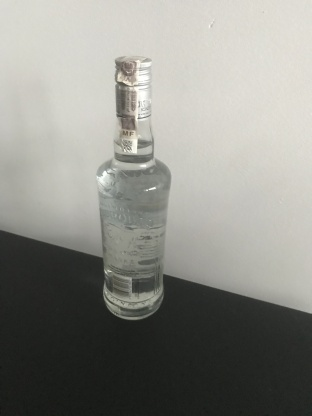nakretka: (113, 53, 153, 123)
